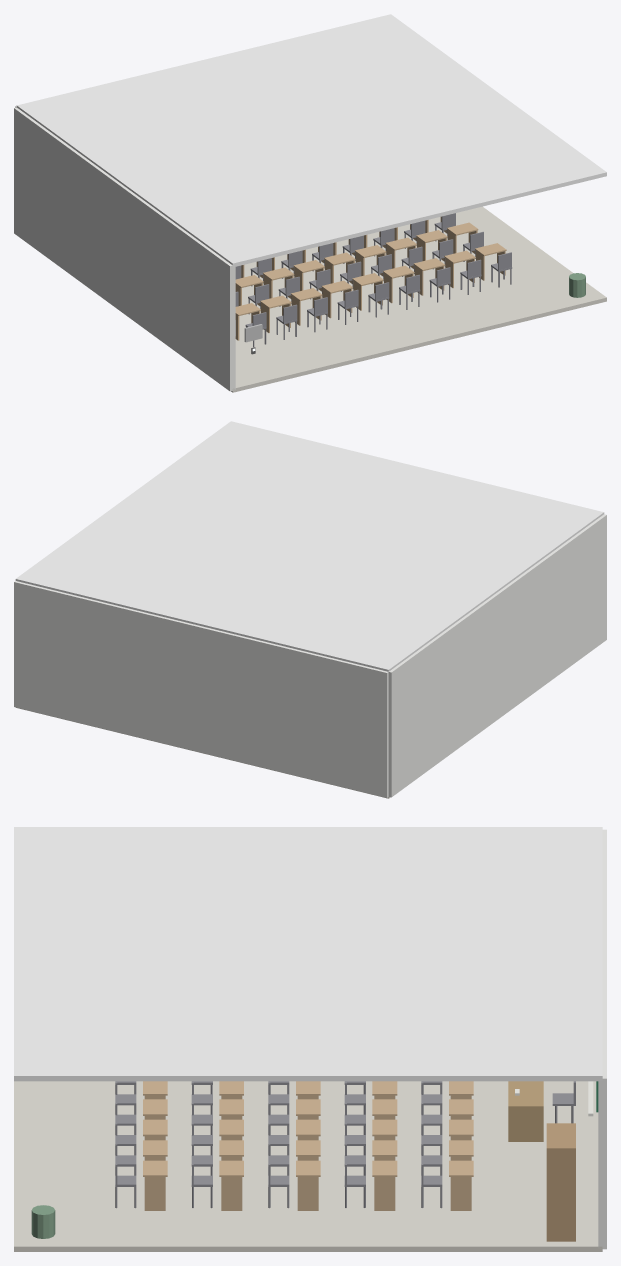
Rendered from new_classroom.glb.
3 renders of one model, top to bottom at view 1: azimuth 30°, elevation 25°; view 2: azimuth 150°, elevation 25°; view 3: azimuth 270°, elevation 25°, orthographic. The views are drawn at different scales.
Parts seen in each view (by area): view 1: Ceiling, Wall_Left, Floor; view 2: Ceiling, Wall_Front, Wall_Left; view 3: Ceiling, Floor, Storage_Cupboard, Wall_Front, Teacher_Desk, Desk_20, Desk_10, Desk_30, Desk_40, Desk_50, Dustbin.
Boxes of the visible parts, <box> form: Ceiling: <box>16,14,606,267</box>; Wall_Left: <box>14,107,235,391</box>; Floor: <box>231,206,606,392</box>; Ceiling: <box>15,421,604,671</box>; Wall_Front: <box>14,581,388,797</box>; Wall_Left: <box>388,514,606,797</box>; Ceiling: <box>14,827,602,1081</box>; Floor: <box>14,1081,602,1251</box>; Storage_Cupboard: <box>546,1123,575,1241</box>; Wall_Front: <box>598,829,606,1249</box>; Teacher_Desk: <box>508,1081,543,1141</box>; Desk_20: <box>372,1160,397,1210</box>; Desk_10: <box>449,1160,473,1210</box>; Desk_30: <box>296,1160,320,1210</box>; Desk_40: <box>219,1160,243,1210</box>; Desk_50: <box>143,1160,167,1210</box>; Dustbin: <box>31,1205,55,1238</box>.
Size of the model in its own units: 10.08 by 3.3 by 10.08.
